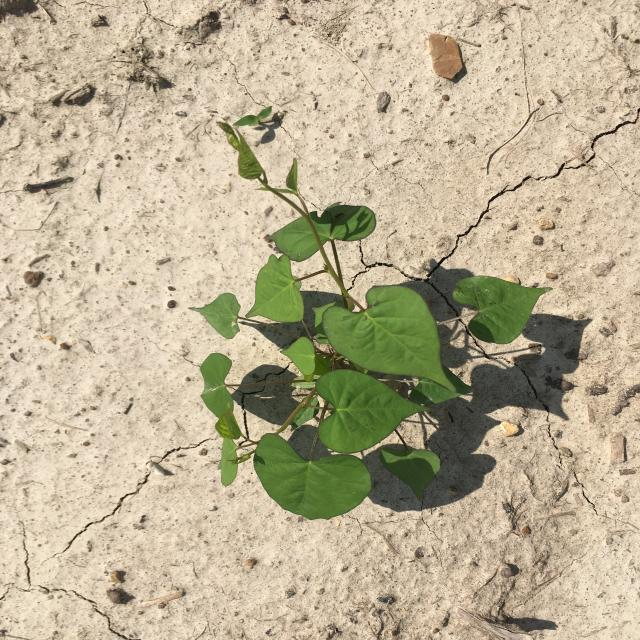MorningGlory: (188, 121, 553, 521)
